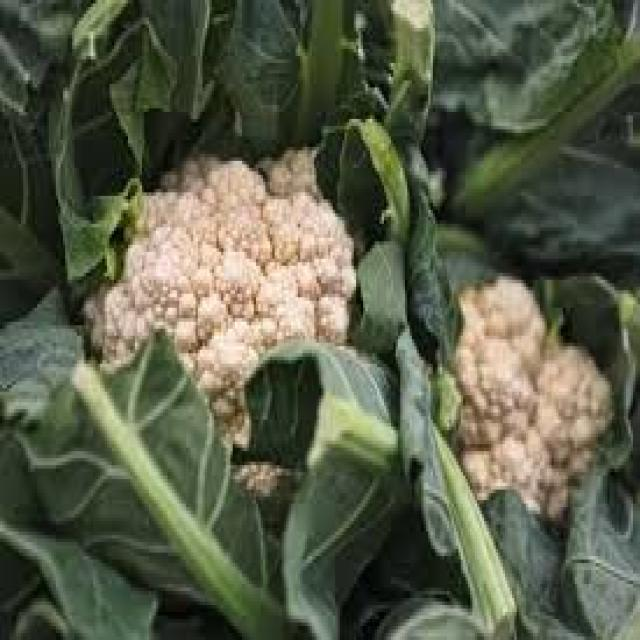organic waste: (0, 0, 638, 637), (77, 133, 356, 465), (430, 266, 610, 524)
